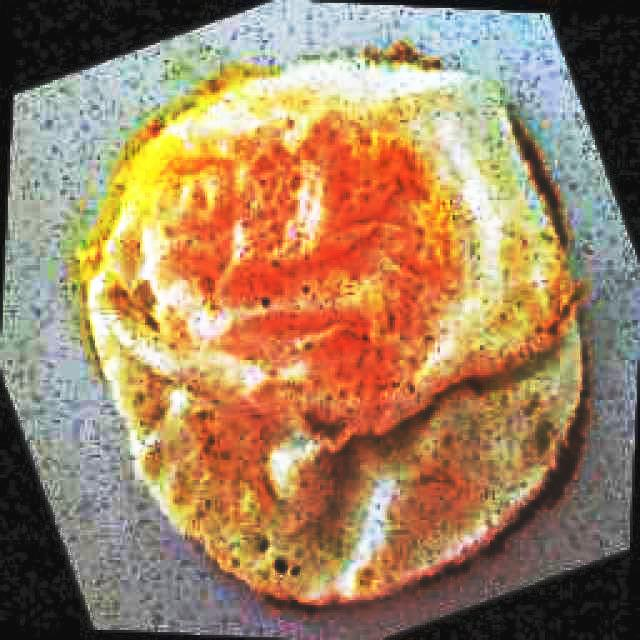fried_eggs: (86, 55, 591, 606)
